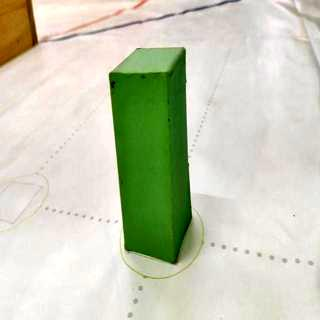greenbox: (108, 45, 191, 266)
